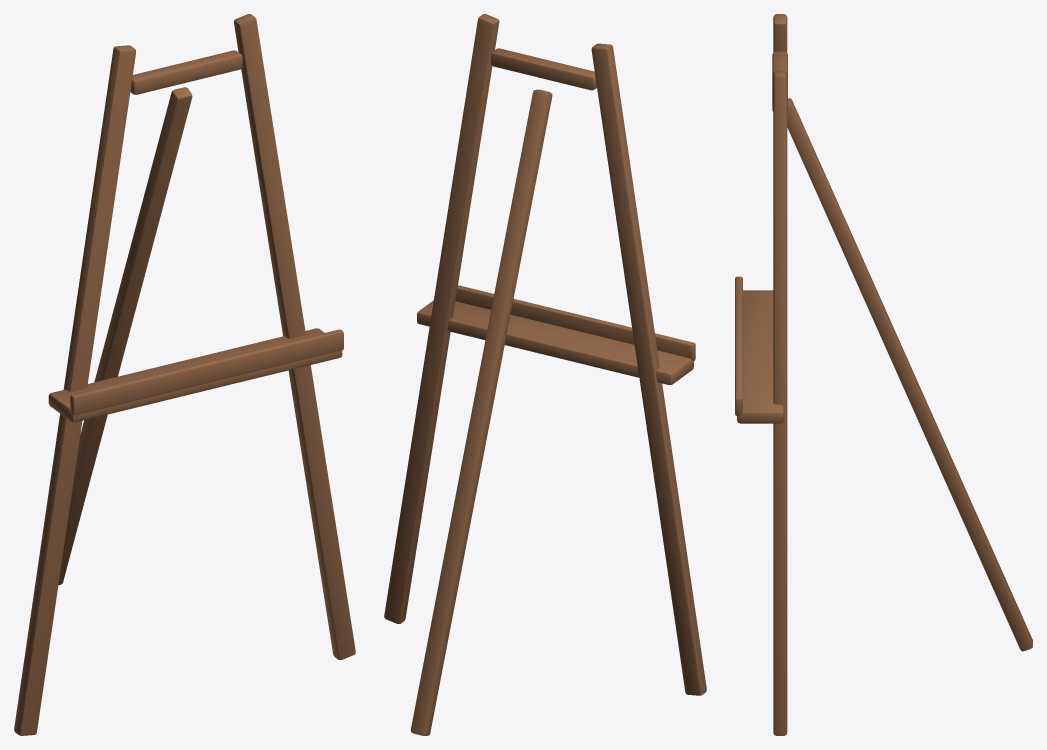
File: photo-easel.glb
3 renders of one model, left to right at view 1: azimuth 30°, elevation 25°; view 2: azimuth 150°, elevation 25°; view 3: azimuth 270°, elevation 25°, orthographic. The views are drawn at different scales.
Parts seen in each view (by area): view 1: photo-easel; view 2: photo-easel; view 3: photo-easel.
Part boxes in pixels (x1,y1,x2,y2): photo-easel: (14,14,355,735); photo-easel: (384,14,706,735); photo-easel: (735,14,1032,735).
Bounding box in the file's own units: 0.9206 × 1.73 × 0.7573.
